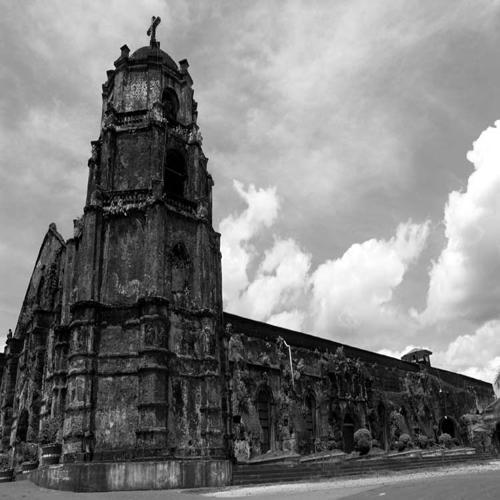Daraga Church: (7, 9, 238, 489)
